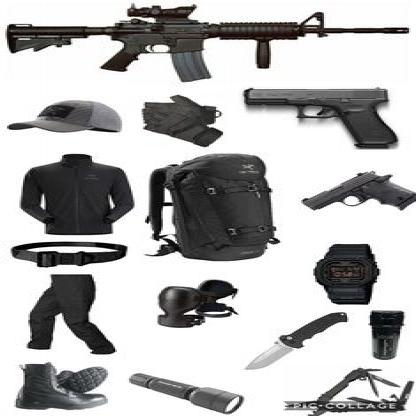Gun: (5, 0, 410, 82)
Knife: (242, 310, 353, 371)
Pistol: (240, 85, 401, 150), (300, 169, 416, 214)
